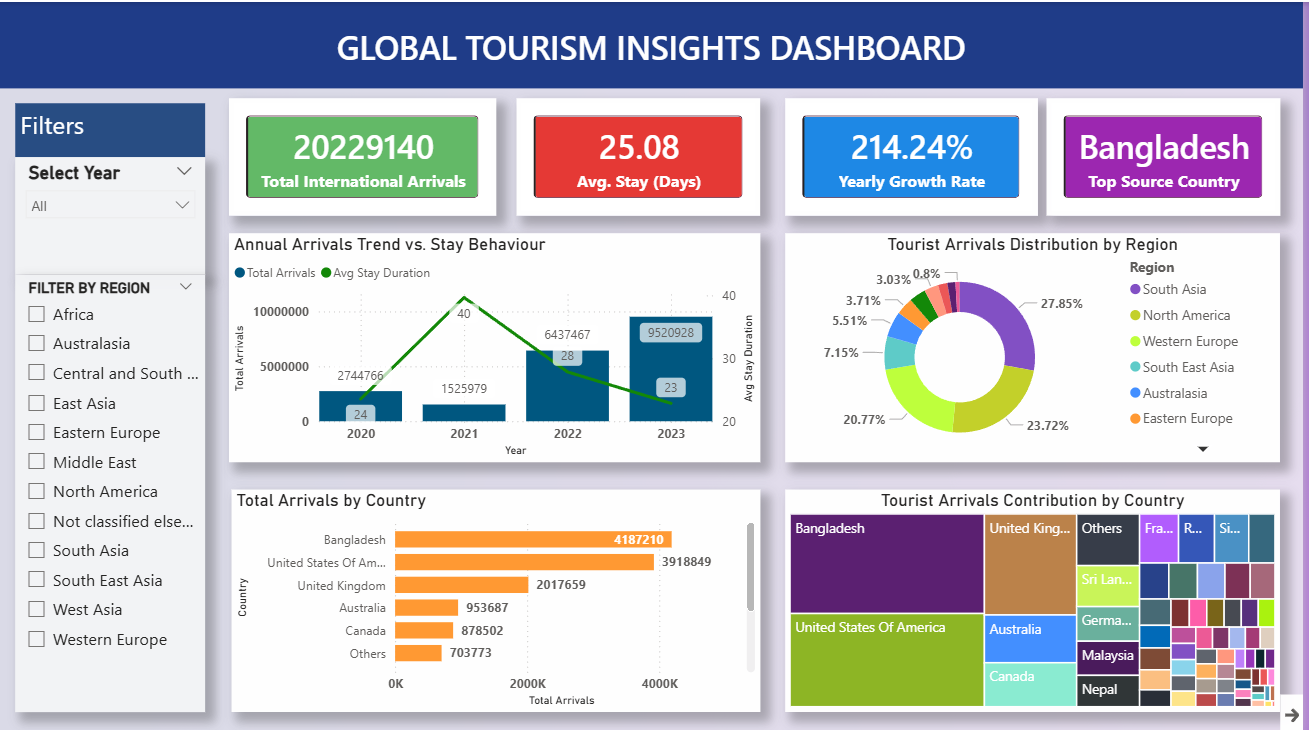

The dashboard page shown, as its layout file describes it:
{"tool":"powerbi","page":{"name":"Page 1","canvas":[1280,720],"ordinal":0},"visuals":[{"type":"textbox","box":[0,0,1280,84.6],"z":0},{"type":"cardVisual","fields":{"Data":["_Key.Total Arrivals"]},"box":[225.8,94.5,262.6,115.3],"z":1000},{"type":"cardVisual","fields":{"Data":["_Key.Avg Stay Duration"]},"box":[508,94.5,239.3,115.3],"z":2000},{"type":"cardVisual","fields":{"Data":["_Key.Arrivals Growth %"]},"box":[771.8,94.5,247.9,115.3],"z":3000},{"type":"cardVisual","fields":{"Data":["_Key.Top Source Country"]},"box":[1028.2,94.5,229.4,115.3],"z":4000},{"type":"lineStackedColumnComboChart","title":"Annual Arrivals Trend vs. Stay Behaviour","fields":{"Category":["NDAP_REPORT_6619.Year"],"Y":["_Key.Total Arrivals"],"Y2":["_Key.Avg Stay Duration"]},"box":[225.8,227,521.5,224.5],"z":5000},{"type":"donutChart","title":"Tourist Arrivals Distribution by Region","fields":{"Category":["NDAP_REPORT_6619.Region"],"Y":["_Key.Total Arrivals"]},"box":[771.8,227,485.9,224.5],"z":6000},{"type":"clusteredBarChart","fields":{"Category":["NDAP_REPORT_6619.Country"],"Y":["_Key.Total Arrivals"]},"box":[228.2,478.5,519,218.4],"z":7000},{"type":"treemap","title":"Tourist Arrivals Contribution by Country","fields":{"Details":["NDAP_REPORT_6619.Country"],"Values":["_Key.Total Arrivals"]},"box":[771.8,478.5,485.9,218.4],"z":8000},{"type":"slicer","fields":{"Values":["NDAP_REPORT_6619.Year"]},"box":[16,152.1,186.5,115.3],"z":9000},{"type":"slicer","fields":{"Values":["NDAP_REPORT_6619.Region"]},"box":[16,267.5,186.5,429.5],"z":10000},{"type":"actionButton","box":[1257.7,679.8,22.1,40.5],"z":11000},{"type":"textbox","box":[16,99.4,186.5,52.8],"z":12000}]}

Visuals, with their boxes in screenshot pixels (x1, y1, x2, y2), scaled from the page's 1280x720 canvas onto the 1309x730 screenshot:
textbox: bbox=(0, 0, 1308, 86)
cardVisual - _Key.Total Arrivals: bbox=(231, 96, 499, 213)
cardVisual - _Key.Avg Stay Duration: bbox=(520, 96, 764, 213)
cardVisual - _Key.Arrivals Growth %: bbox=(789, 96, 1043, 213)
cardVisual - _Key.Top Source Country: bbox=(1051, 96, 1286, 213)
"Annual Arrivals Trend vs. Stay Behaviour" lineStackedColumnComboChart: bbox=(231, 230, 764, 458)
"Tourist Arrivals Distribution by Region" donutChart: bbox=(789, 230, 1286, 458)
clusteredBarChart - NDAP_REPORT_6619.Country x _Key.Total Arrivals: bbox=(233, 485, 764, 707)
"Tourist Arrivals Contribution by Country" treemap: bbox=(789, 485, 1286, 707)
slicer - NDAP_REPORT_6619.Year: bbox=(16, 154, 207, 271)
slicer - NDAP_REPORT_6619.Region: bbox=(16, 271, 207, 707)
actionButton: bbox=(1286, 689, 1308, 729)
textbox: bbox=(16, 101, 207, 154)
